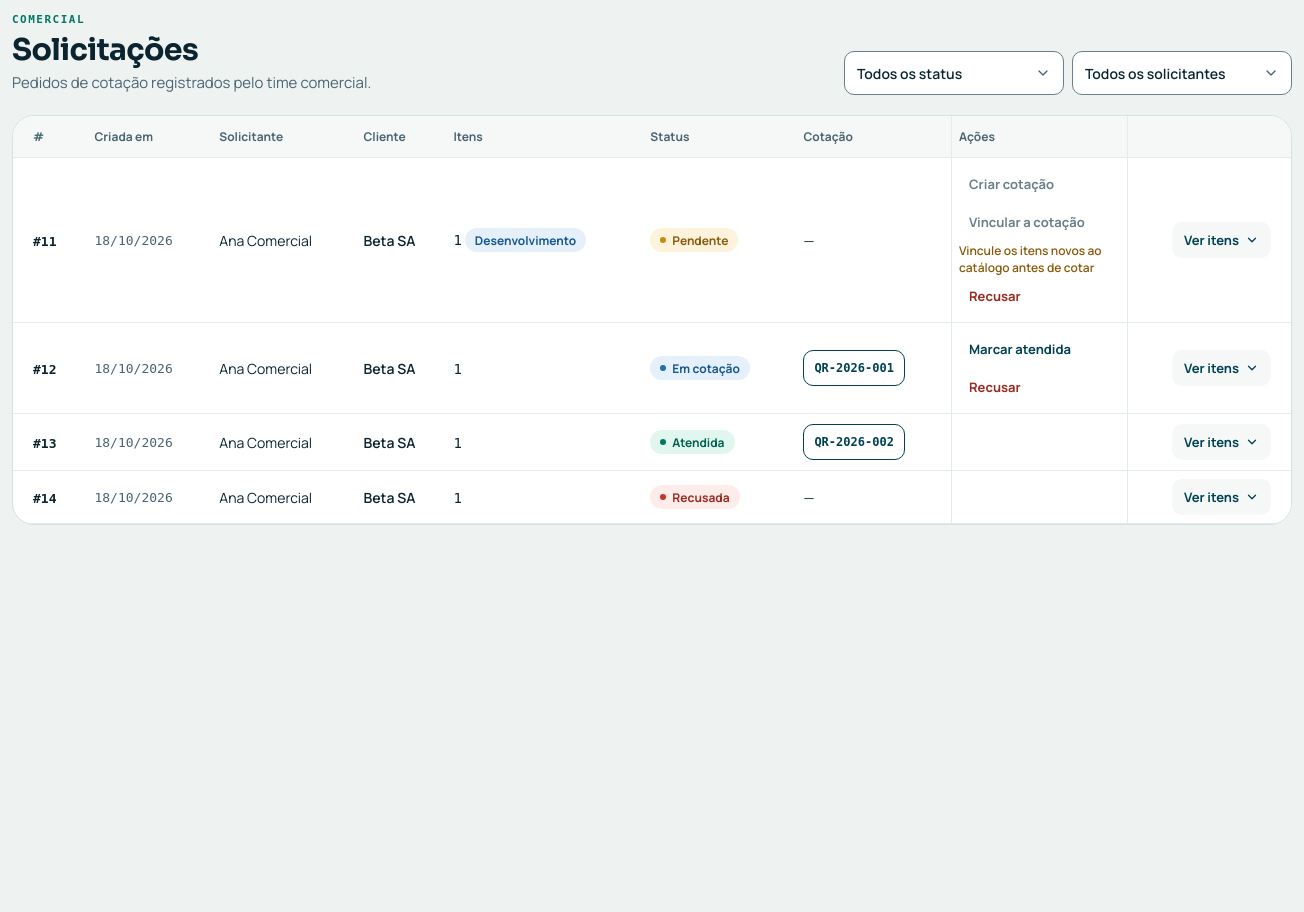
F9: lista do COMEX › "Ver itens" tem chevron aria-hidden e aria-expanded; abre a linha de detalhe (aberta + detalhe) e o nome acessivel e o de antes
Expected: the icon in the row of "11" is shown, [1245,233,1259,247]
Click the button "Ver itens" in the row of "11". click: (1222, 240)
box: [1172,222,1271,258]
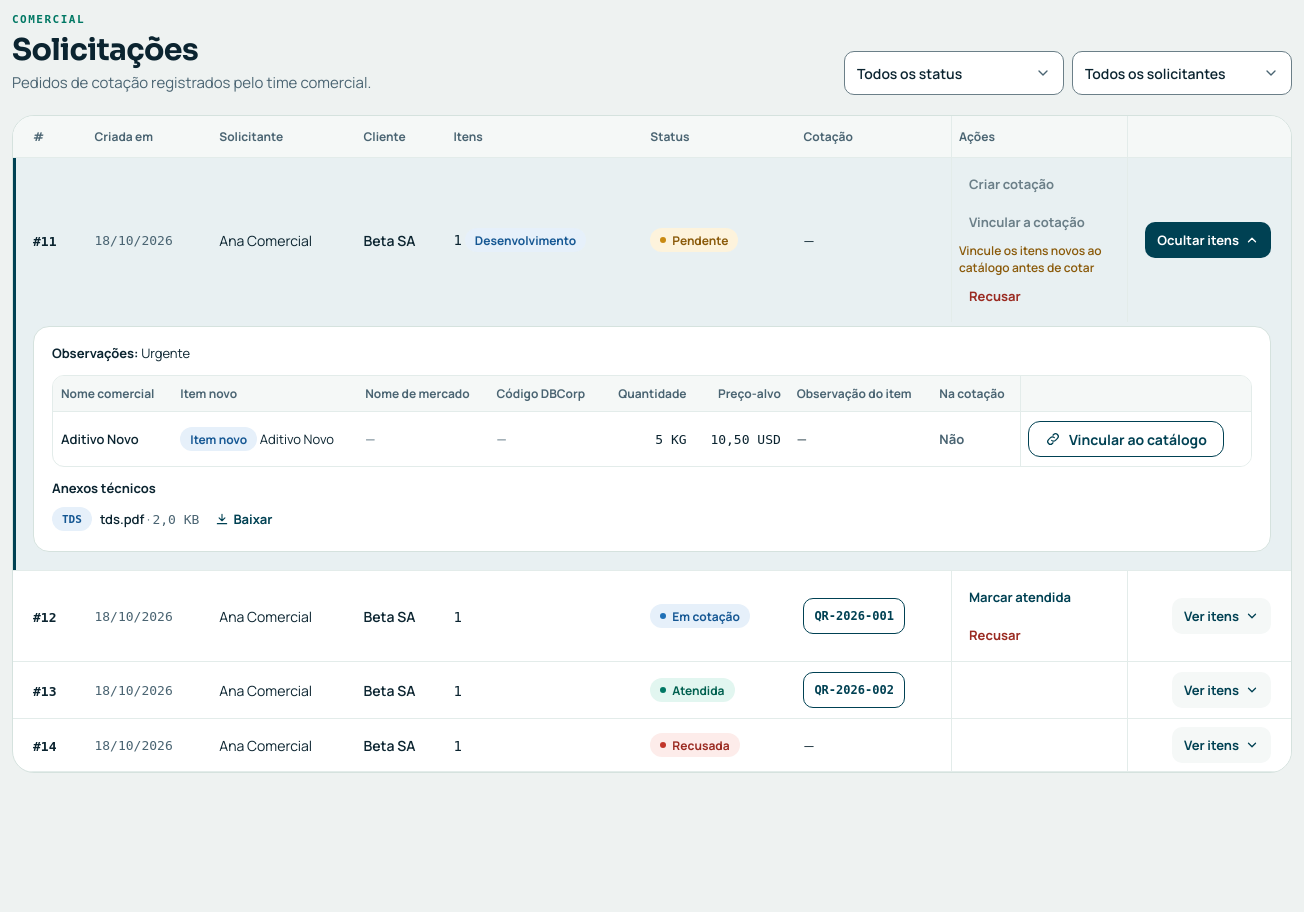
Expected: the button "Ocultar itens" is expanded, [1145,222,1271,258]
Expected: the text "Observações:" is shown, [52,344,139,362]
Expected: the table with class "solicitacoes-itens" is shown, [53,376,1251,466]
